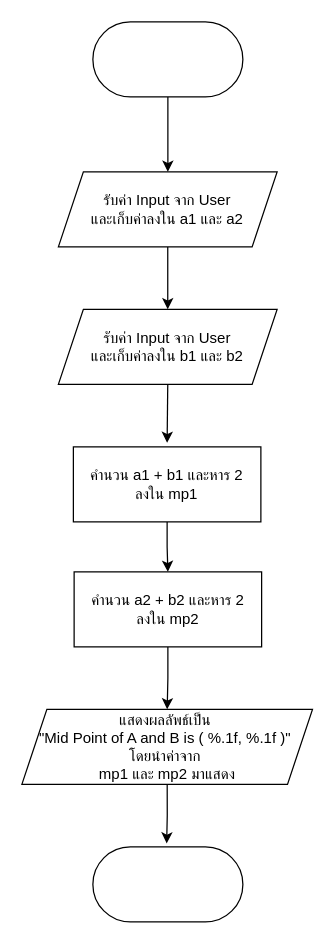
The diagram is 335 pixels wide and 944 high, and some of its shapes have lost their labels. The shapes that lost their labels are listed below. From the top down, each one's centre as x and y in pixels, then its label:
point 167,59: Start
point 167,884: End
